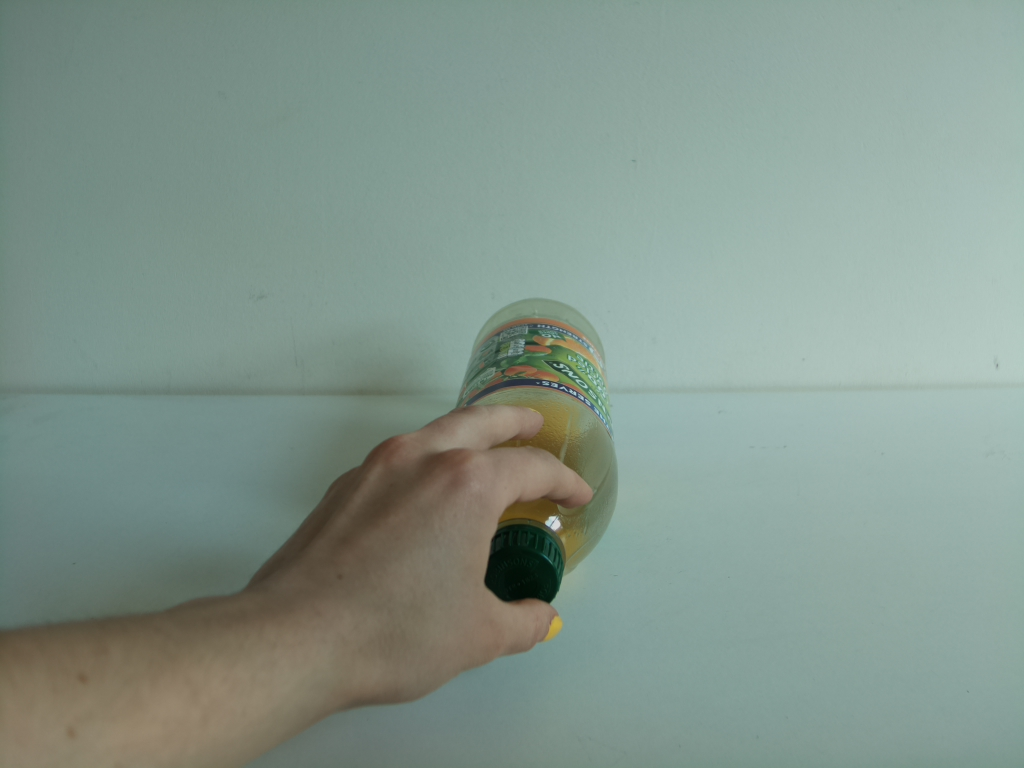juice: (440, 296, 624, 610)
